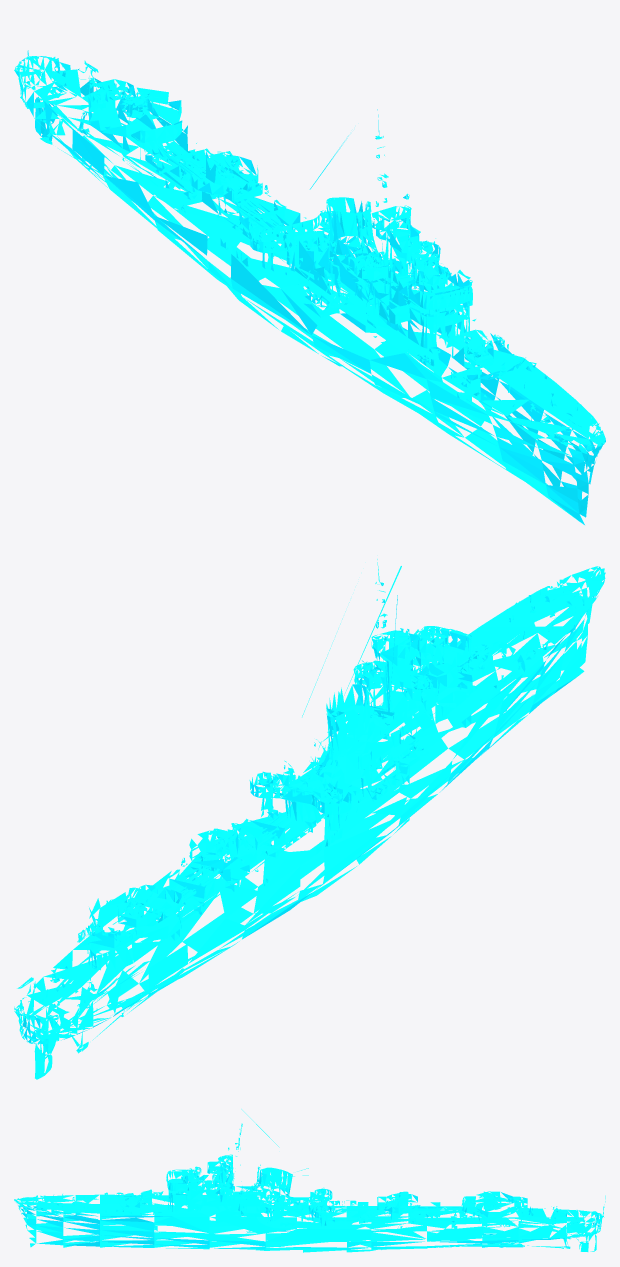
The model's file is Duchaffault.glb.
3 views of the same model, one above another, from view 1: azimuth 30°, elevation 25°; view 2: azimuth 150°, elevation 25°; view 3: azimuth 270°, elevation 25° (orthographic). The views are drawn at different scales.
Bounding box in the file's own units: 0.7107 × 1.9 × 7.16.
